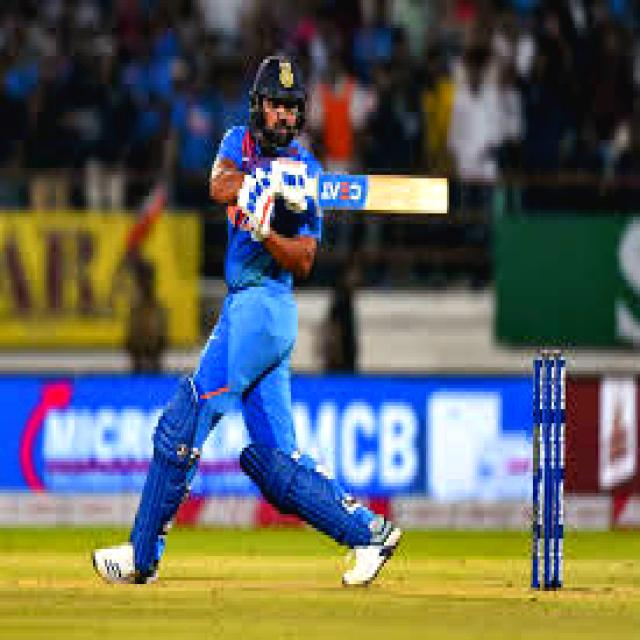toe: (430, 174, 451, 215)
